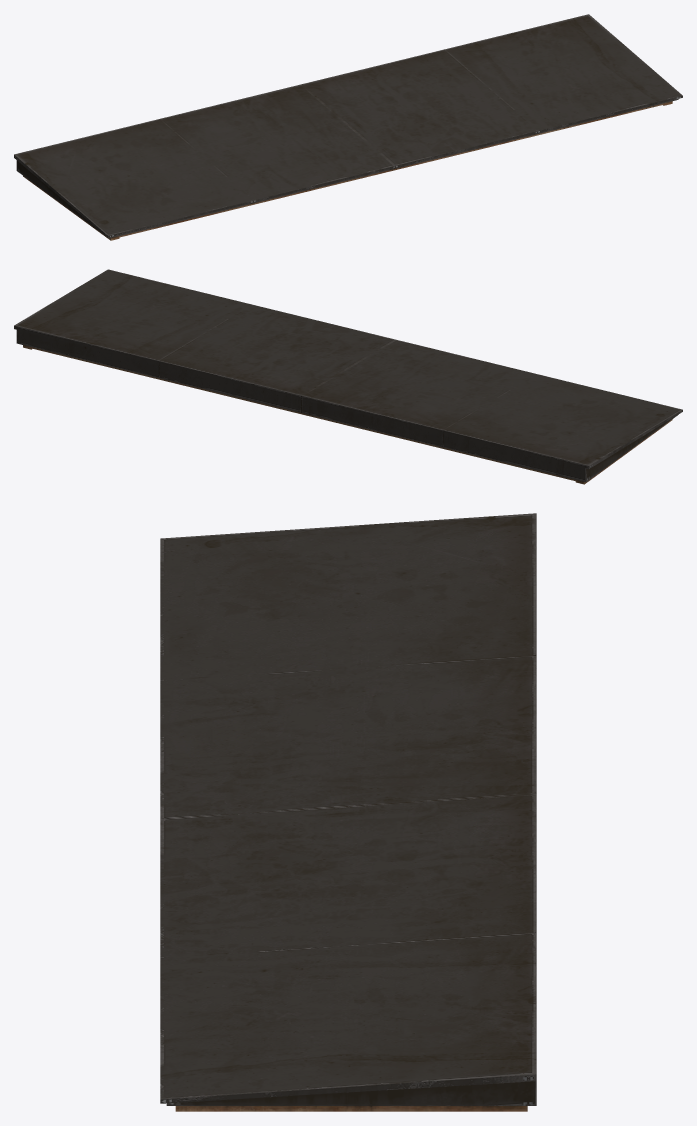
The model's file is SmallRoof.fbx.
3 renders of one model, top to bottom at view 1: azimuth 30°, elevation 25°; view 2: azimuth 150°, elevation 25°; view 3: azimuth 270°, elevation 25°, orthographic. The views are drawn at different scales.
Parts seen in each view (by area): view 1: SmallRoof; view 2: SmallRoof; view 3: SmallRoof.
Part boxes in pixels (x1,y1,x2,y2): SmallRoof: [14, 14, 682, 240]; SmallRoof: [14, 269, 682, 484]; SmallRoof: [160, 513, 536, 1111].
Bounding box in the file's own units: 225 × 8.18 × 63.64.
1 material, 1 textured.
